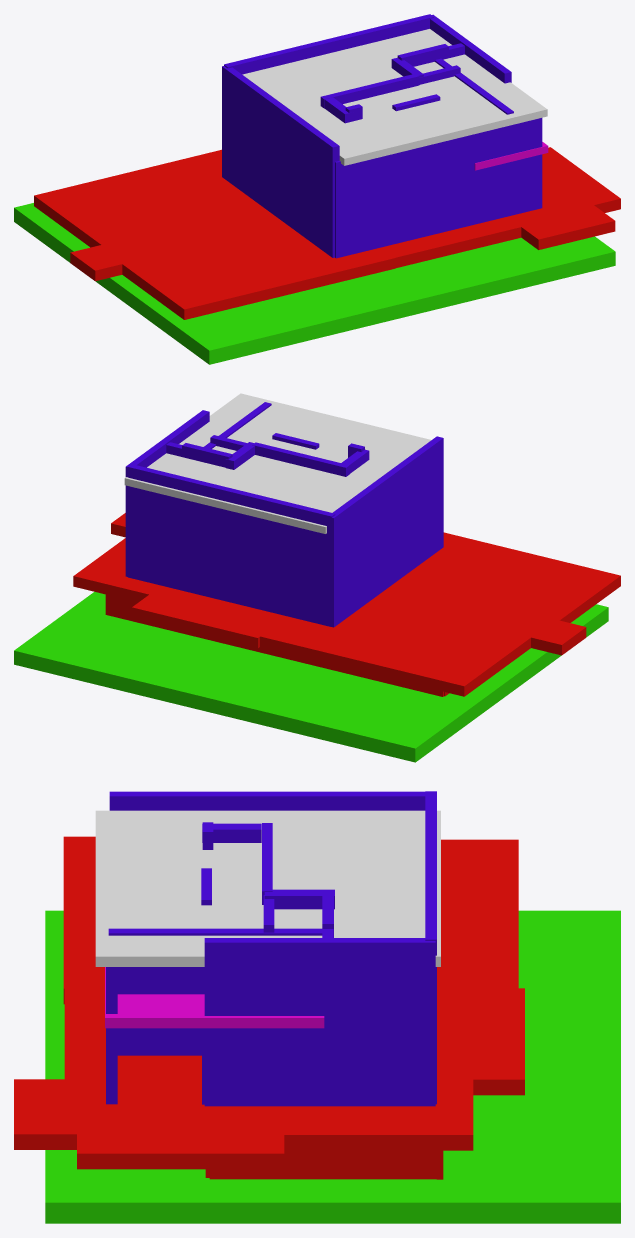
The model's file is ikea2.glb.
3 views of the same model, one above another, from view 1: azimuth 30°, elevation 25°; view 2: azimuth 150°, elevation 25°; view 3: azimuth 270°, elevation 25° (orthographic). The views are drawn at different scales.
Parts seen in each view (by area): view 1: ground, ceiling, Cube.035, second_floor_ground.004, Cube.001, second_floor_ground.003, second_floor_ground.005, second_floor_ground.007, second_floor_ground.001, Cube.032, second_floor_ground.006, Cube.029 (+4 smaller); view 2: ground, Cube.032, ceiling, second_floor_ground.003, Cube.001, second_floor_ground.004, second_floor_ground.001, second_floor_ground.005, second_floor_ground.002, Cube.004, Cube.029, Cube.047 (+1 smaller); view 3: ground, ceiling, Cube.029, second_floor_ground.001, second_floor_ground.007, second_floor_ground.003, second_floor_ground.002, second_floor_ground.006, Cube.001, Cube.003, second_floor_ground.004, Cube.043 (+7 smaller).
Part boxes in pixels (x1,y1,x2,y2): ground: [14, 203, 615, 364]; ceiling: [242, 29, 547, 165]; Cube.035: [335, 118, 542, 258]; second_floor_ground.004: [114, 218, 395, 319]; Cube.001: [222, 66, 339, 257]; second_floor_ground.003: [34, 149, 263, 247]; second_floor_ground.005: [70, 208, 283, 281]; second_floor_ground.007: [534, 147, 620, 217]; second_floor_ground.001: [381, 217, 521, 267]; Cube.032: [224, 14, 433, 74]; second_floor_ground.006: [507, 170, 615, 249]; Cube.029: [430, 14, 511, 83]; ground: [14, 591, 608, 762]; Cube.032: [127, 464, 335, 626]; ceiling: [124, 393, 431, 533]; second_floor_ground.003: [260, 597, 532, 696]; Cube.001: [331, 436, 443, 627]; second_floor_ground.004: [389, 532, 620, 626]; second_floor_ground.001: [132, 585, 286, 648]; second_floor_ground.005: [376, 581, 586, 655]; second_floor_ground.002: [73, 538, 160, 602]; Cube.004: [105, 594, 443, 696]; Cube.029: [125, 410, 209, 576]; Cube.047: [252, 442, 349, 476]; ground: [45, 910, 620, 1223]; ceiling: [95, 810, 440, 966]; Cube.029: [204, 938, 435, 1106]; second_floor_ground.001: [64, 988, 524, 1095]; second_floor_ground.007: [77, 1098, 284, 1169]; second_floor_ground.003: [437, 839, 518, 988]; second_floor_ground.002: [266, 1079, 473, 1150]; second_floor_ground.006: [14, 1079, 221, 1149]; Cube.001: [109, 791, 425, 810]; Cube.003: [209, 1150, 436, 1179]; second_floor_ground.004: [63, 836, 104, 1004]; Cube.043: [105, 967, 324, 1028].
Bounding box in the file's own units: 138 × 47.58 × 105.
